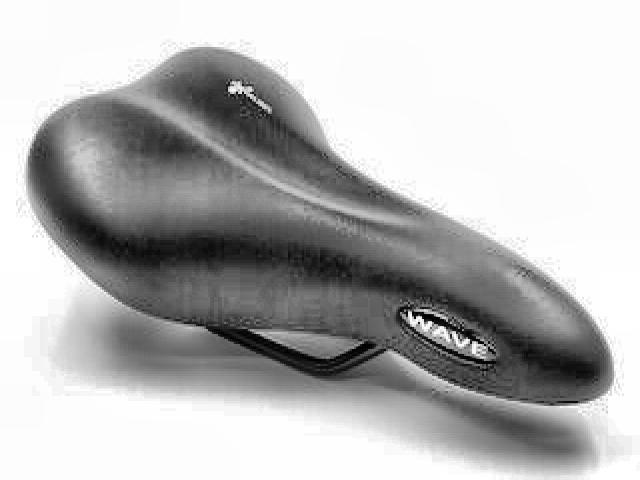saddle: (23, 41, 617, 418)
